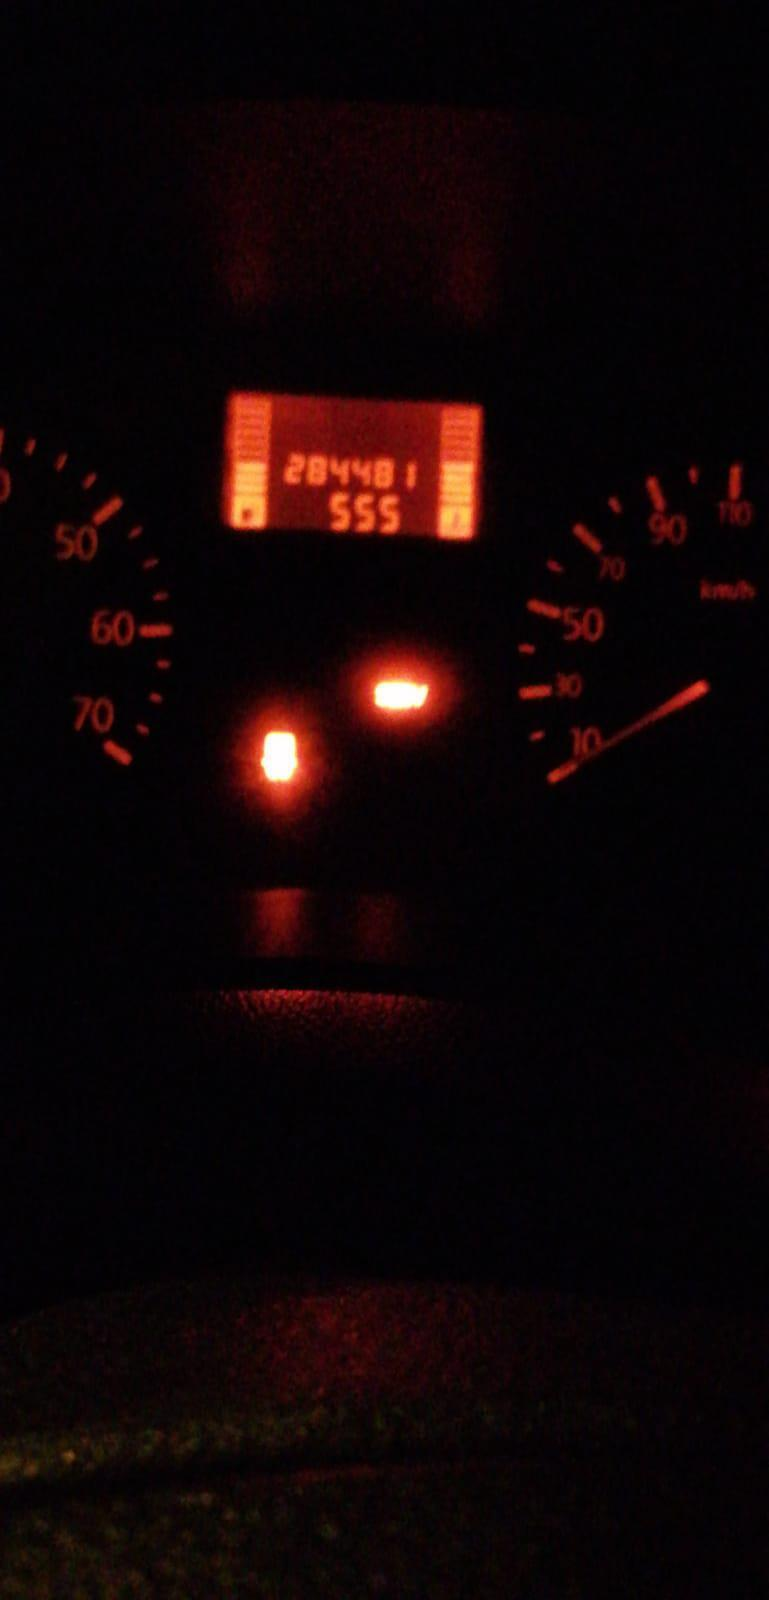1: (405, 459, 417, 491)
2: (281, 452, 305, 484)
4: (328, 455, 350, 487), (351, 456, 371, 486)
5: (352, 492, 376, 533), (377, 493, 401, 534), (328, 491, 351, 531)
8: (306, 453, 328, 485), (373, 458, 395, 489)
odometer: (216, 387, 490, 545)
